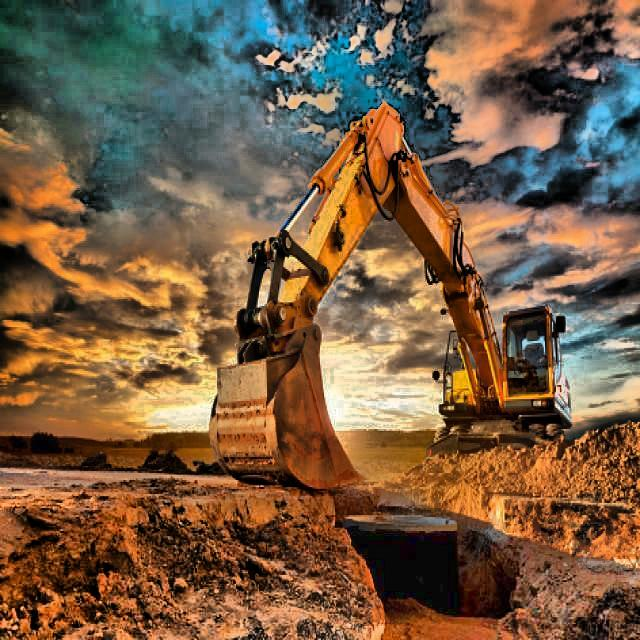excavator: (206, 103, 574, 501)
